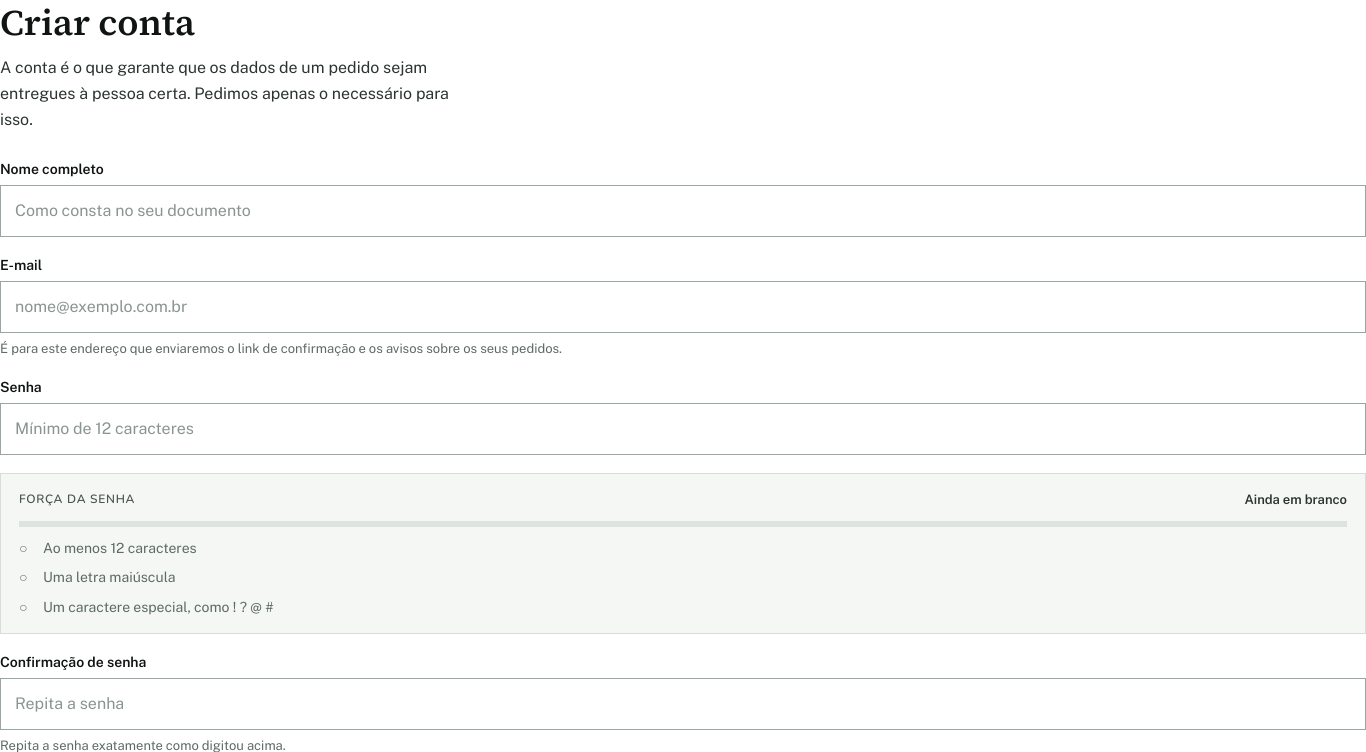
Test: RegisterForm › aponta o e-mail malformado e o aceite pendente ao tentar enviar
The width and height of the screenshot is (1366, 752).
Type "Marina Torres de Almeida" into the field labelled "Nome completo" at [683, 211], box [0, 185, 1365, 237]
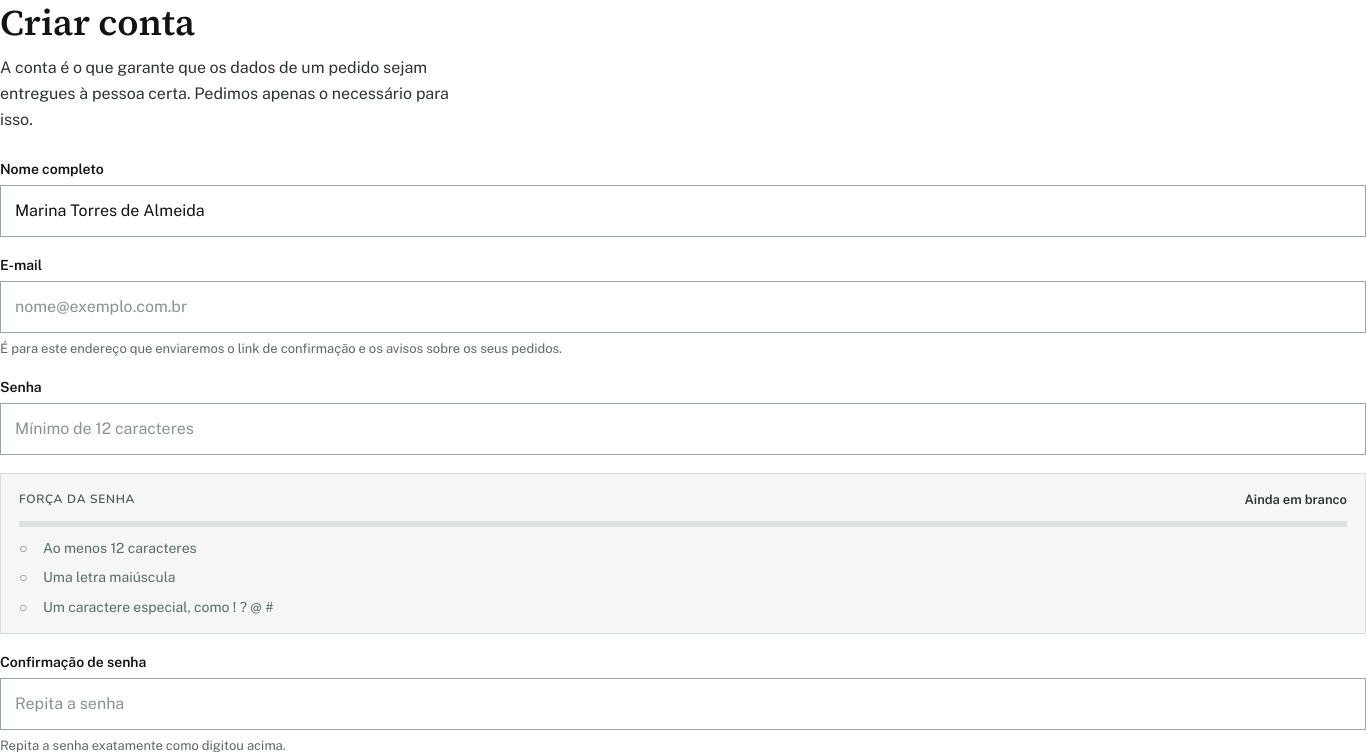
Type "marina@" into the field labelled "E-mail" at [683, 307], box [0, 281, 1365, 333]
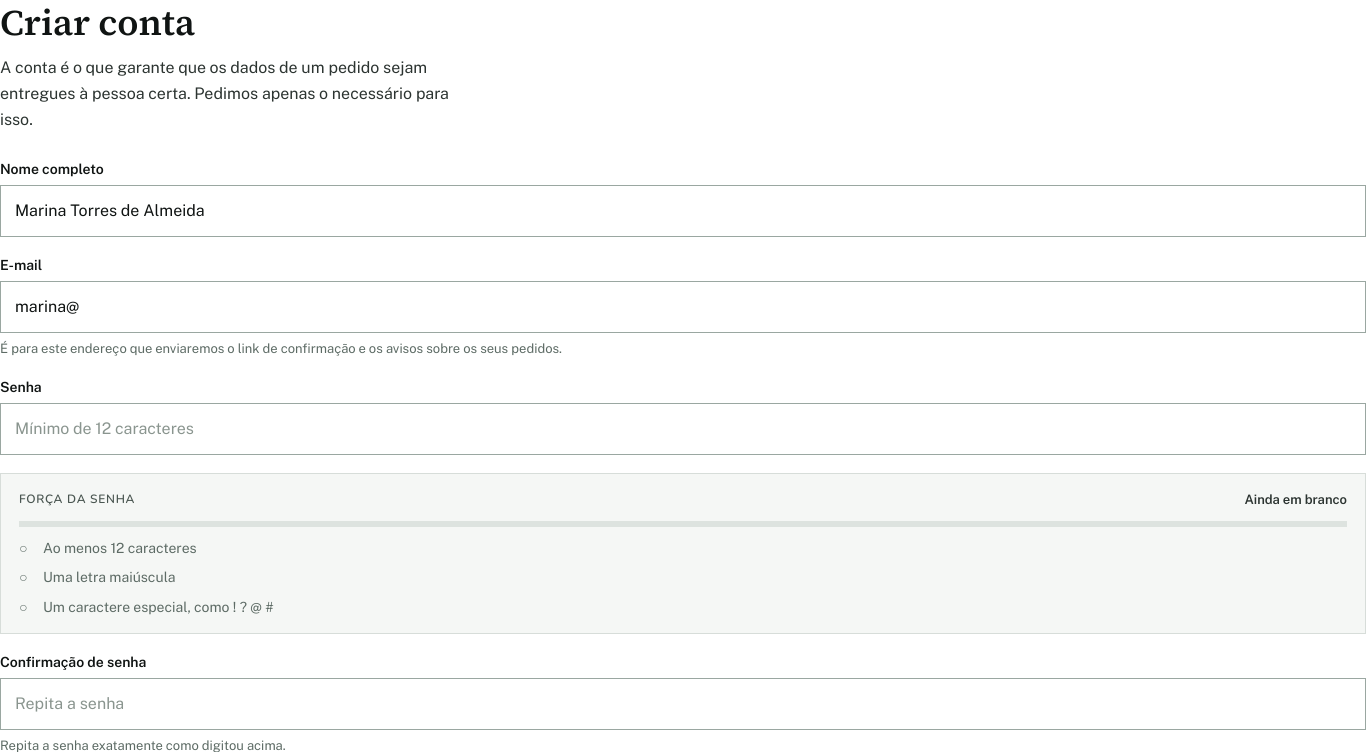
Type "SenhaSegura!123" into the password field labelled "Senha" at [683, 428], box [0, 402, 1365, 454]
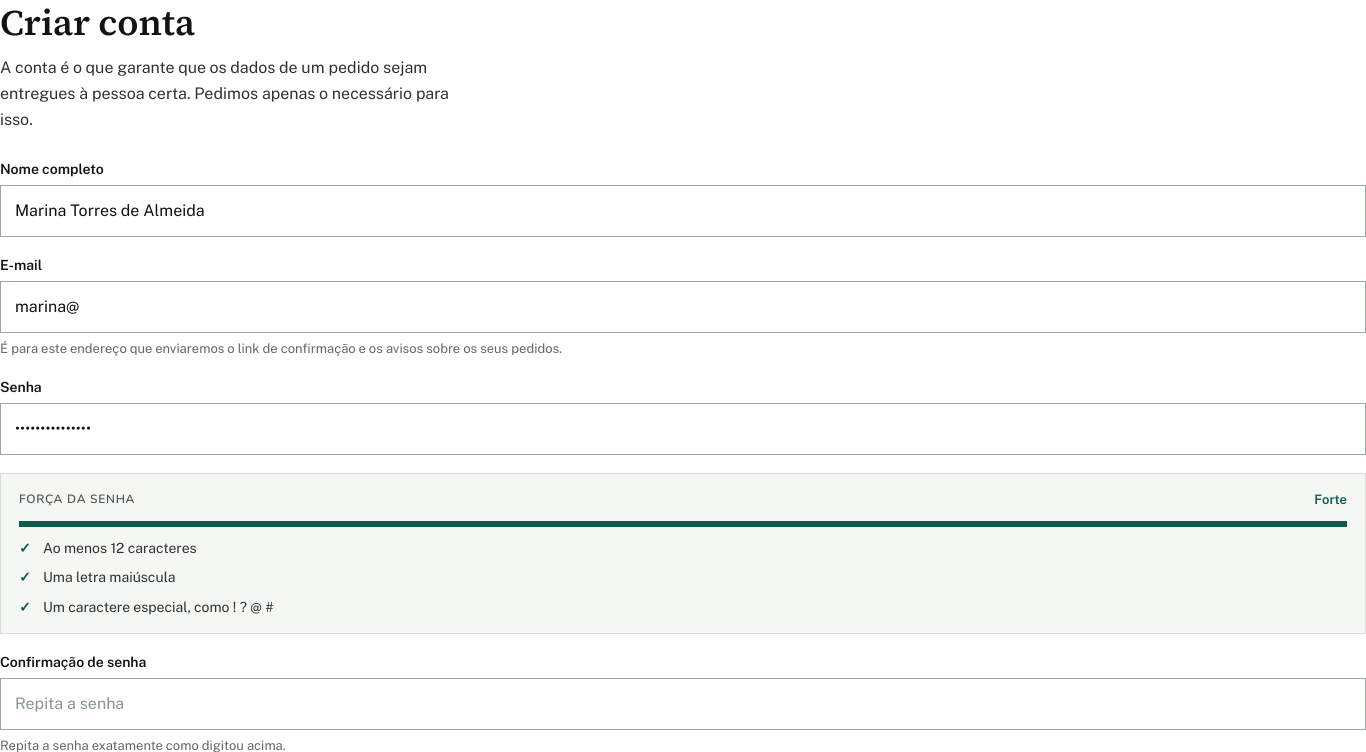
Type "SenhaSegura!123" into the password field labelled "Confirmação de senha" at [683, 704], box [0, 678, 1365, 730]
(page scrolled)
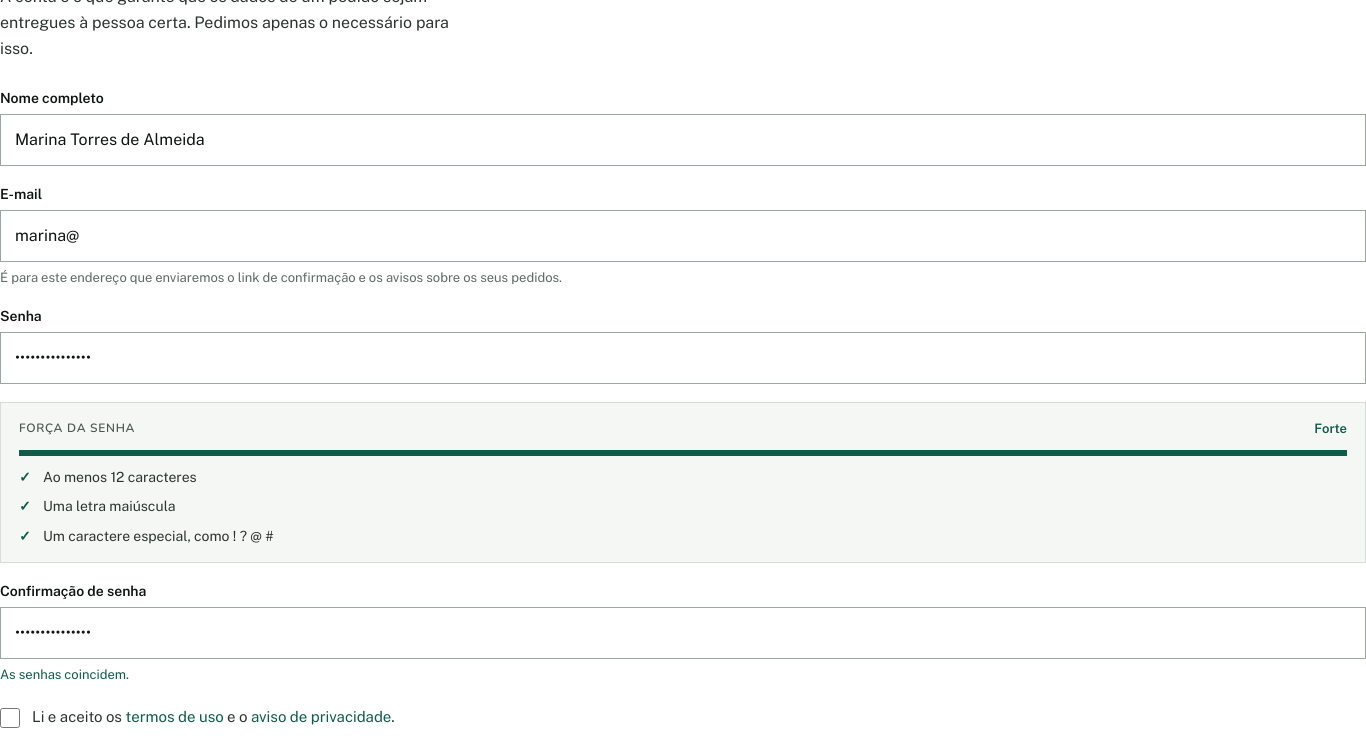
Submit the form
(page scrolled)
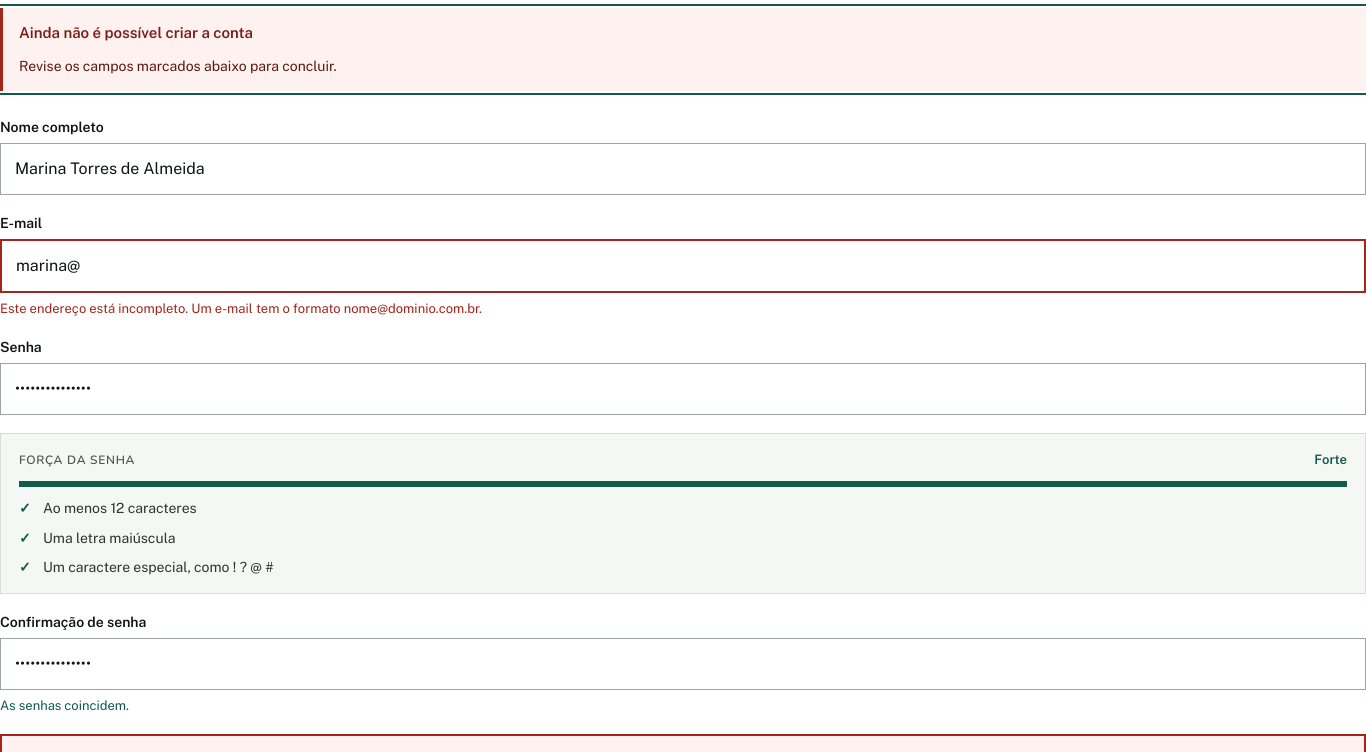
expect the form shows "Um e-mail tem o formato nome@dominio.com.br.": met, box [0, 301, 482, 316]
